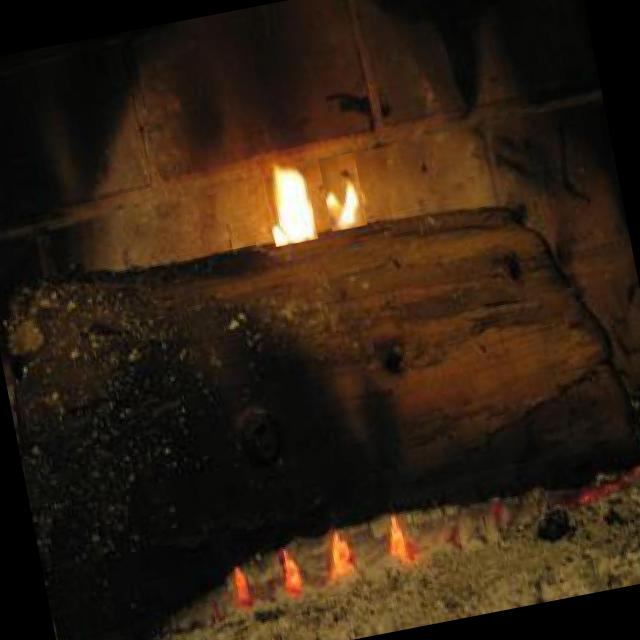fire: (258, 148, 318, 247), (318, 152, 368, 232)
